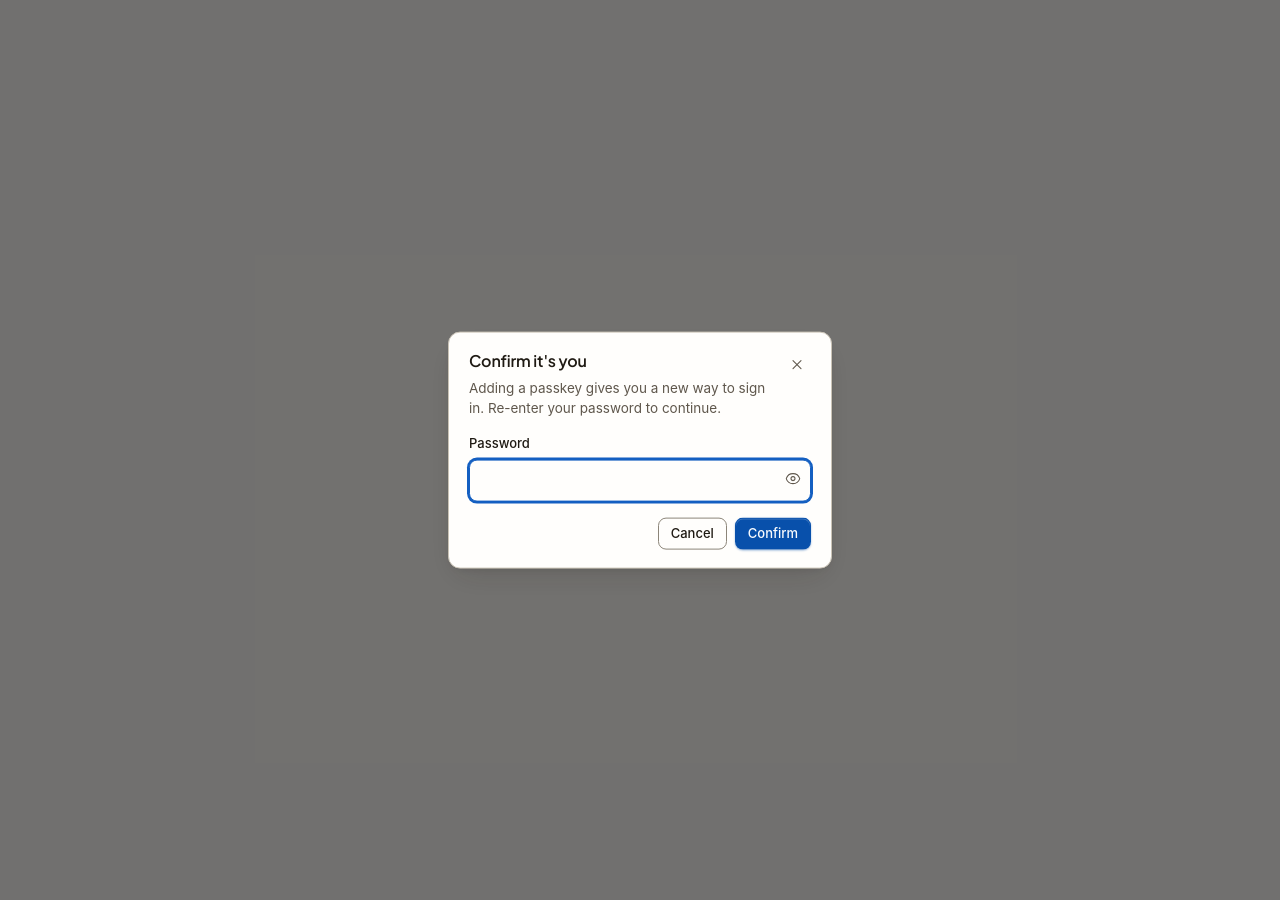
Test case: StepUpDialog › shows a wrong password inline and keeps waiting
The width and height of the screenshot is (1280, 900).
Type "wrong" into the password field labelled "Password" at {"x": 640, "y": 480}, box [469,459,811,501]
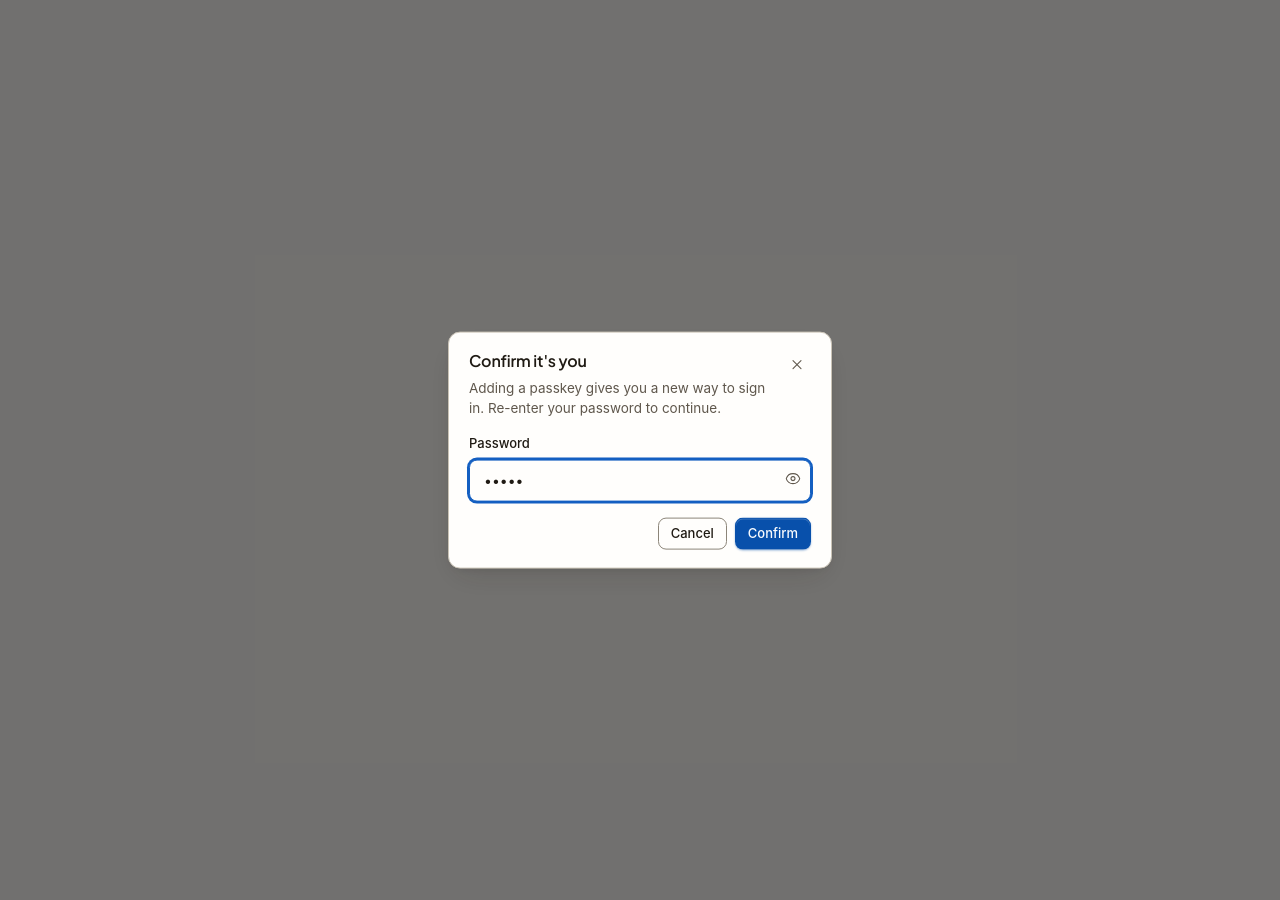
Click the button "Confirm" at {"x": 773, "y": 533}, box [735,517,811,549]
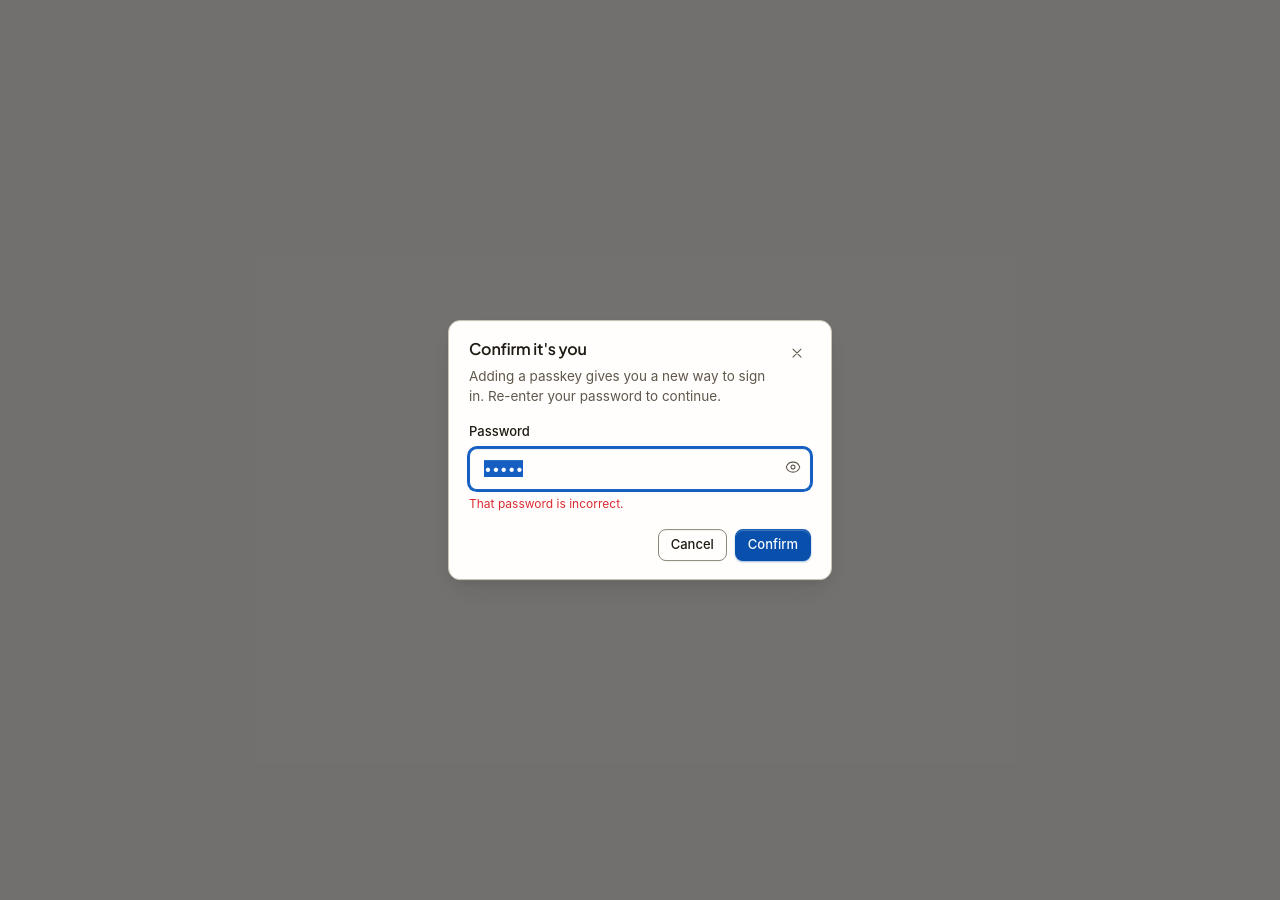
Expected: the dialog is shown, [448,320,832,580]
Result: the text "That password is incorrect." is shown at [469,496,624,511]
